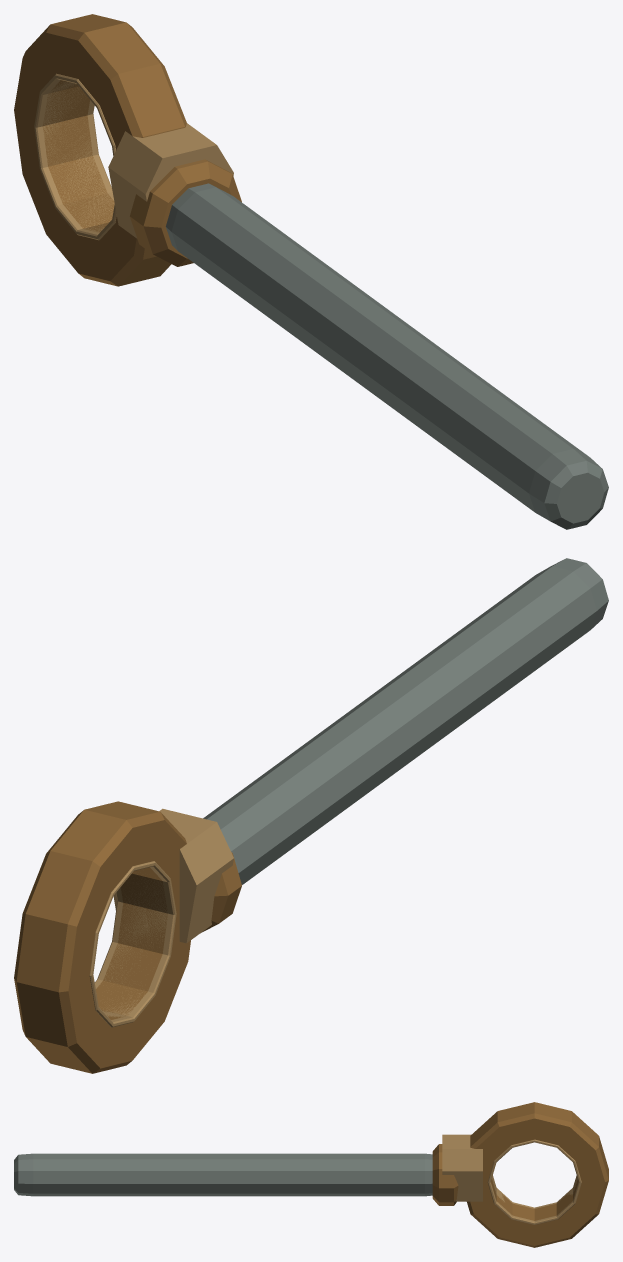
The model's file is PULL_PIN.shadow.glb.
3 renders of one model, top to bottom at view 1: azimuth 30°, elevation 25°; view 2: azimuth 150°, elevation 25°; view 3: azimuth 270°, elevation 25°, orthographic. The views are drawn at different scales.
Parts seen in each view (by area): view 1: ShaftStretch_Mesh, Grip_Mesh; view 2: Grip_Mesh, ShaftStretch_Mesh; view 3: ShaftStretch_Mesh, Grip_Mesh.
Boxes of the visible parts, x1,y1,x2,y2 form: ShaftStretch_Mesh: (165, 183, 608, 529); Grip_Mesh: (14, 14, 241, 286); Grip_Mesh: (14, 801, 241, 1073); ShaftStretch_Mesh: (203, 558, 608, 884); ShaftStretch_Mesh: (14, 1153, 432, 1196); Grip_Mesh: (432, 1102, 608, 1247).
Bounding box in the file's own units: 0.29 × 0.69 × 2.77.
